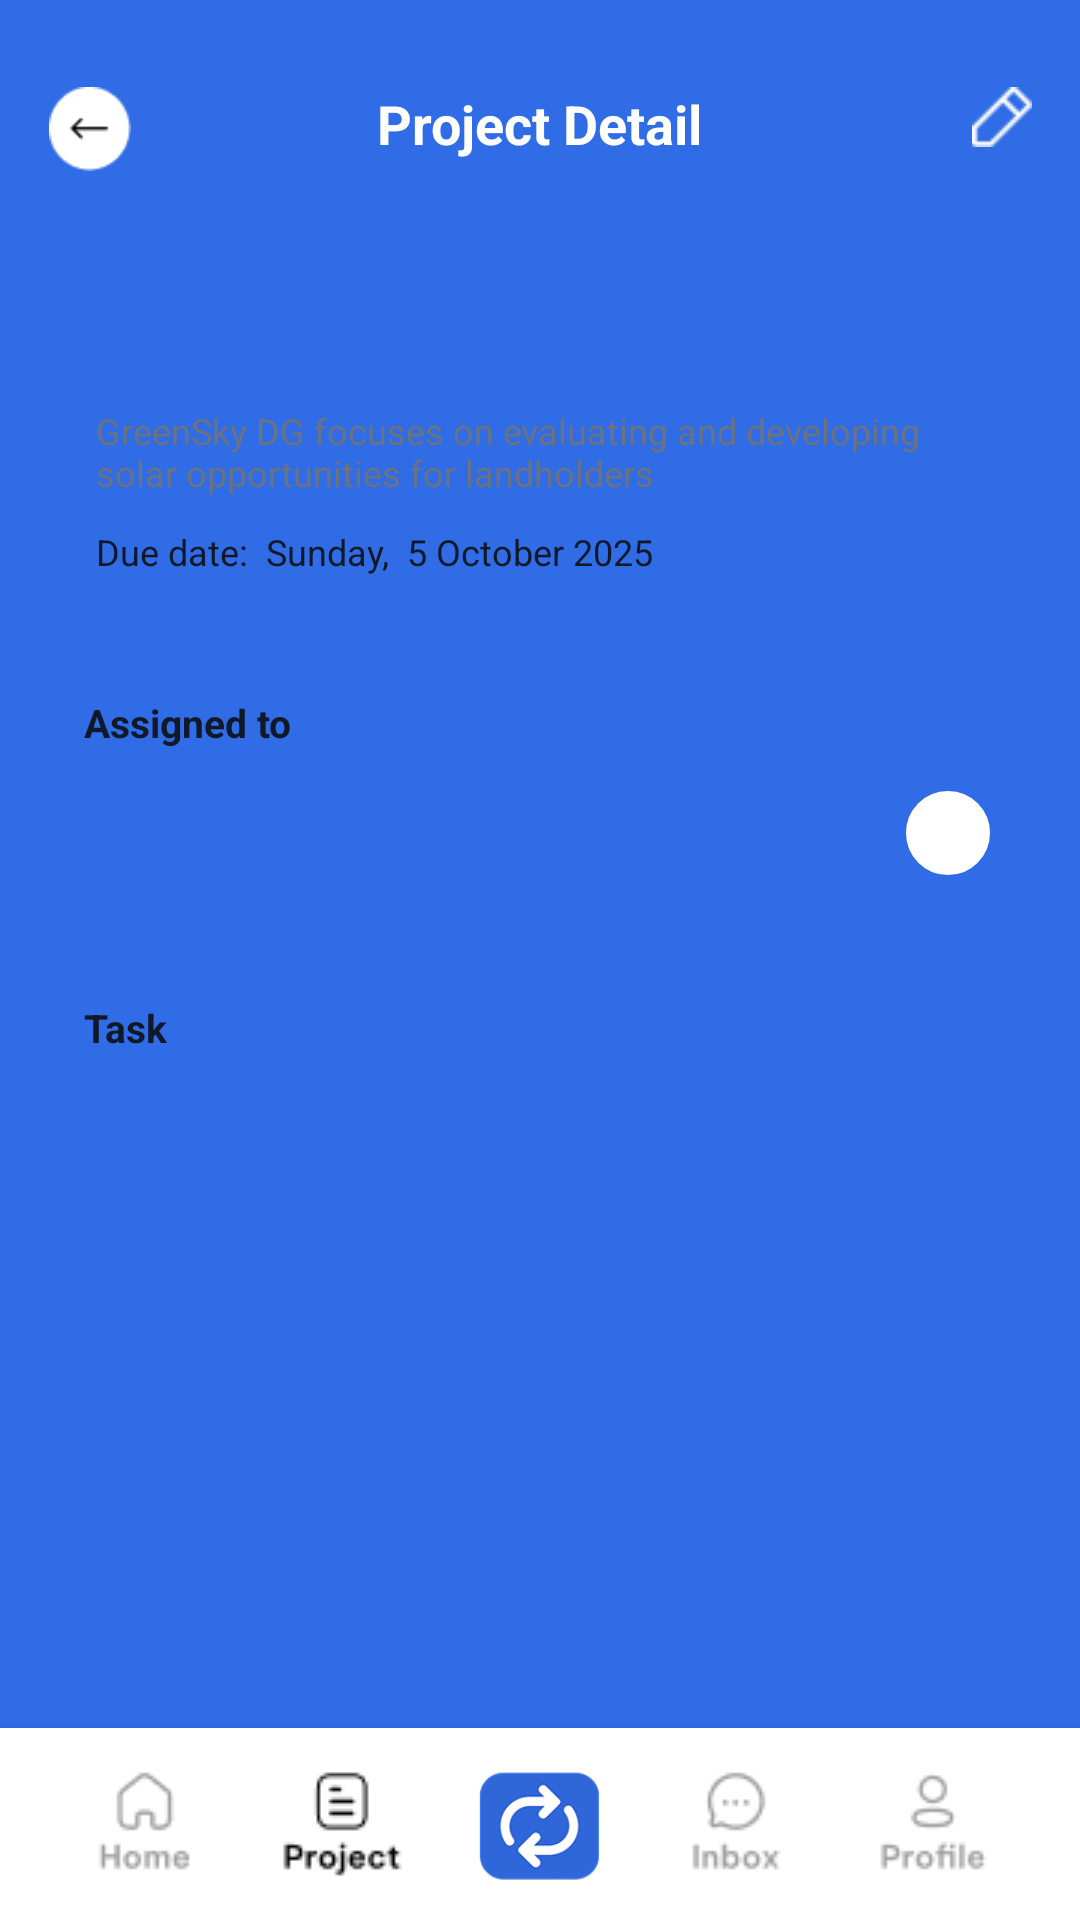

Icons on this 1080w x 1920h Android screen, each with the point to tap as (x,y):
back arrow: (90,129)
edit: (1002,117)
